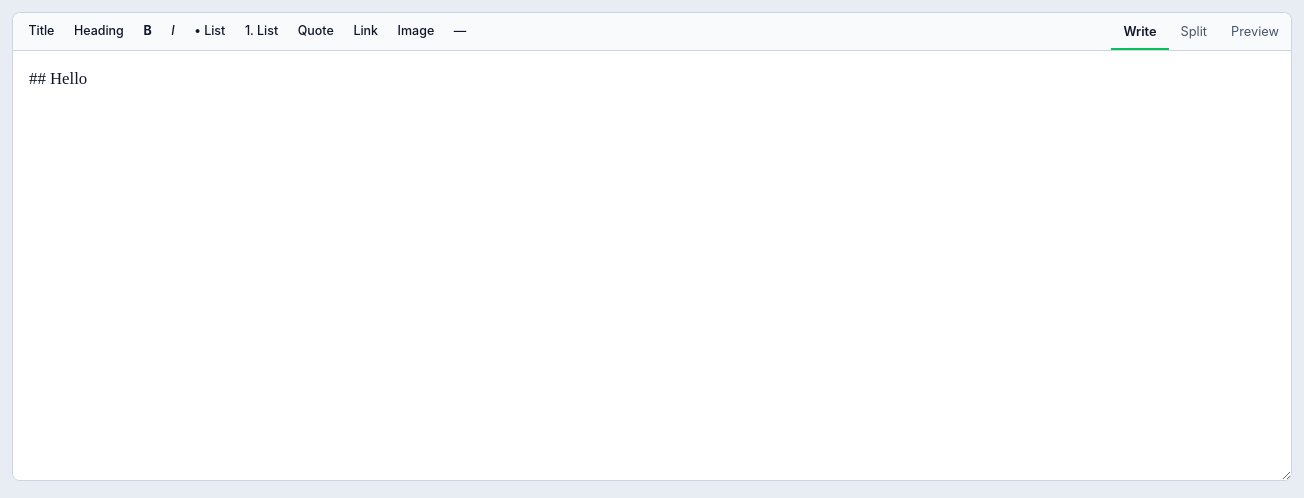
Scenario: MarkdownEditor › shows split preview pane
What coordinates should you click on to do the following:
click the tab with test id "markdown-editor-split-tab"
I would click on:
 (1194, 32)
Its box is [1169,13,1219,50].
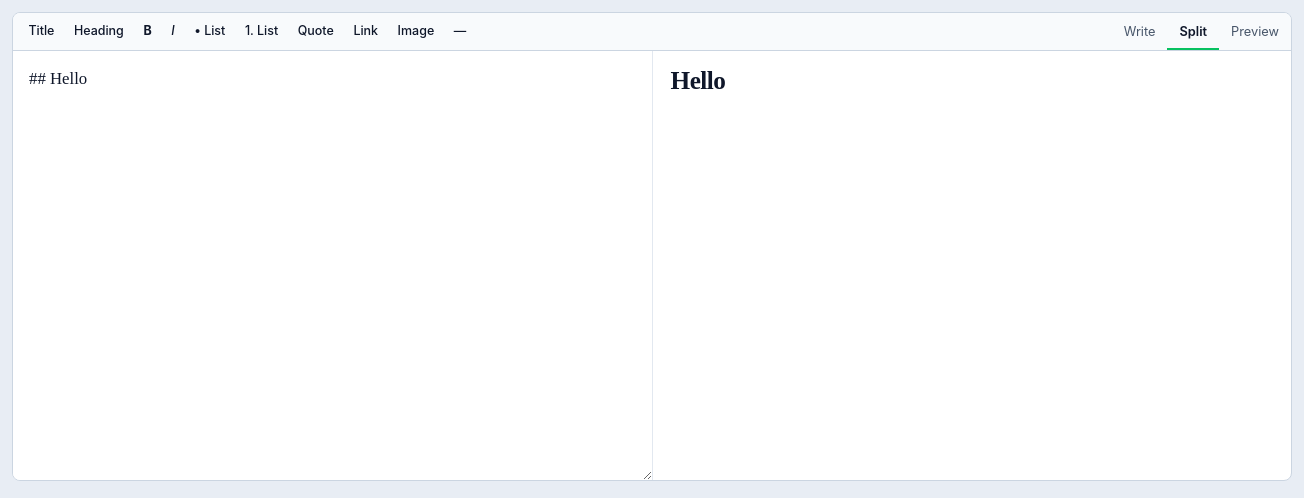
Expected: the text box with test id "markdown-editor-textarea" is shown, [13,51,652,480]
Expected: the element with test id "markdown-editor-preview" is shown, [652,51,1291,480]
Expected: the element with test id "markdown-editor-preview" reads "Hello", [671,68,725,94]
